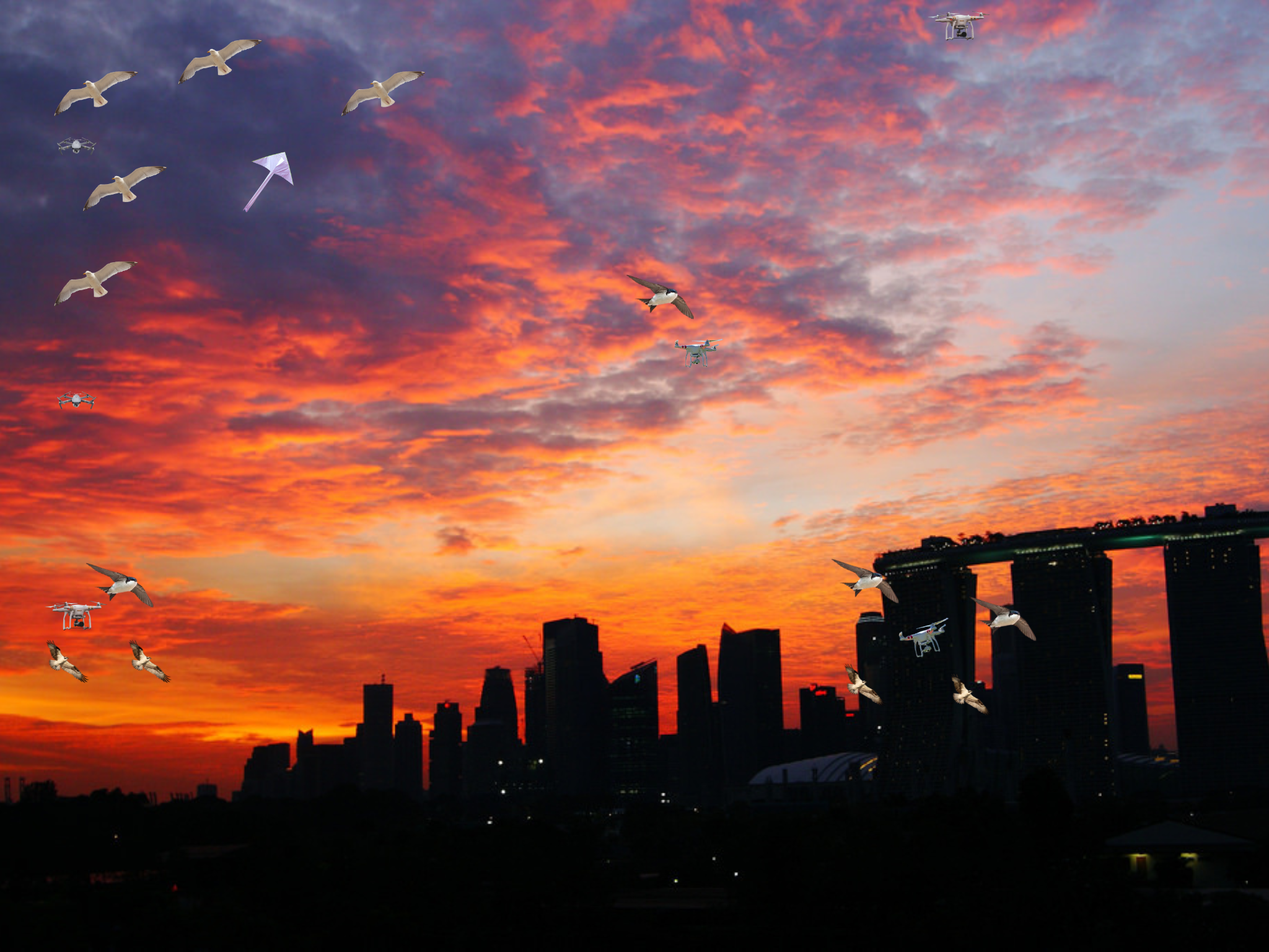drone_other: (894, 615, 954, 660), (927, 5, 992, 45), (47, 598, 101, 637), (673, 336, 718, 367), (53, 387, 95, 415), (58, 133, 100, 160)
